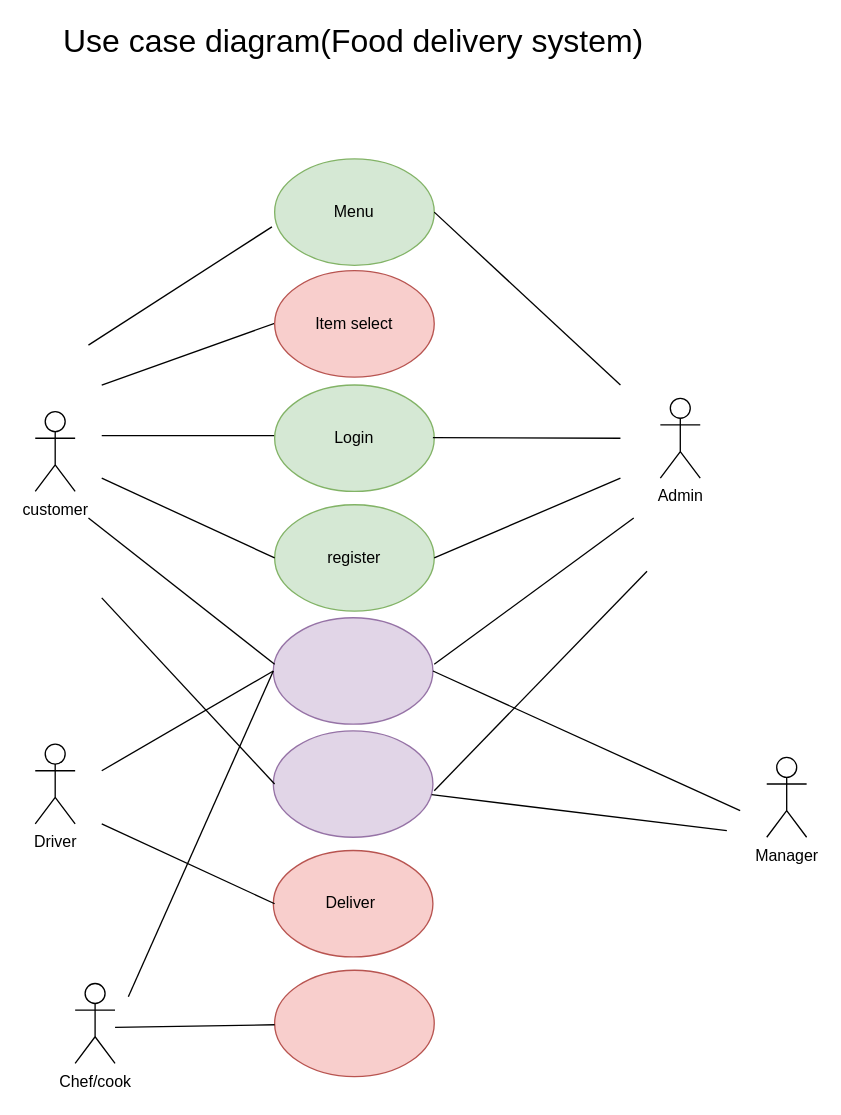
Some shapes in this 841 by 1115 pixel diagram are drawn without their labels. Here are the shapes that lost their labels. From the top down, the centre of each, then its label:
At (x=352, y=670): "view order".
At (x=352, y=783): "place order".
At (x=353, y=1023): "Prepare food".
